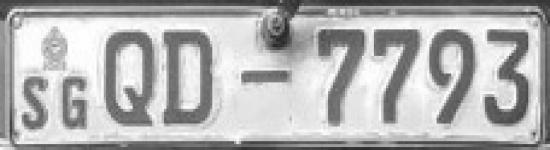-: (232, 64, 300, 87)
3: (480, 20, 535, 131)
7: (310, 21, 370, 132), (368, 23, 424, 128)
9: (424, 23, 481, 131)
D: (158, 23, 220, 130)
G: (53, 73, 93, 136)
Q: (101, 23, 160, 129)
S: (18, 72, 51, 134)
